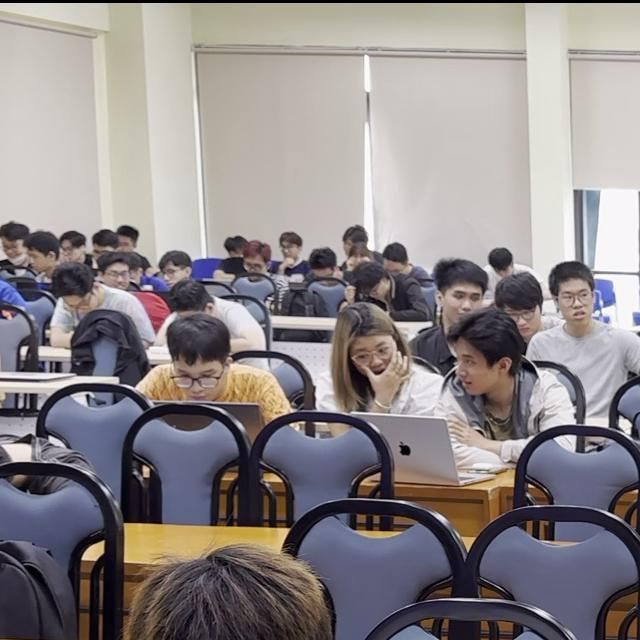Looking away: (169, 358, 229, 403), (558, 285, 593, 330), (444, 286, 483, 324), (507, 303, 544, 339)
Reading-writing: (453, 340, 499, 394), (348, 332, 399, 379)
